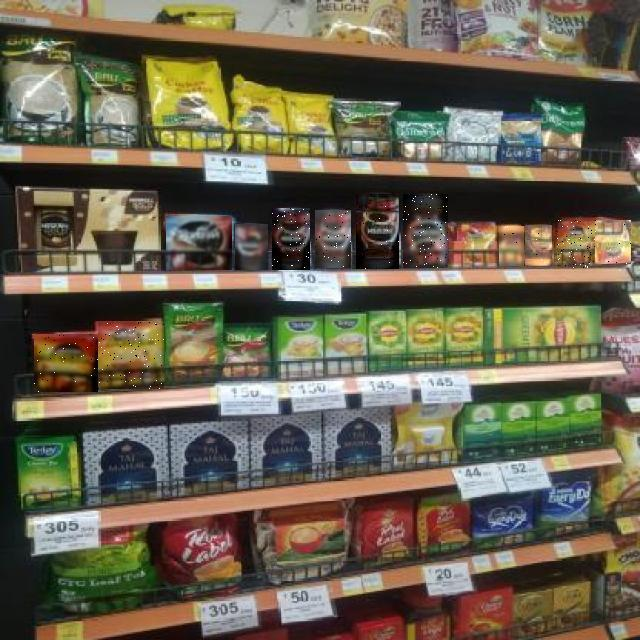Coffee: (98, 322, 164, 389), (34, 334, 98, 392), (166, 216, 232, 270), (403, 195, 448, 269), (356, 194, 399, 269), (272, 208, 310, 270), (315, 210, 351, 268), (556, 220, 596, 268), (595, 221, 631, 265), (235, 225, 268, 271), (525, 225, 552, 266), (499, 226, 524, 266)
